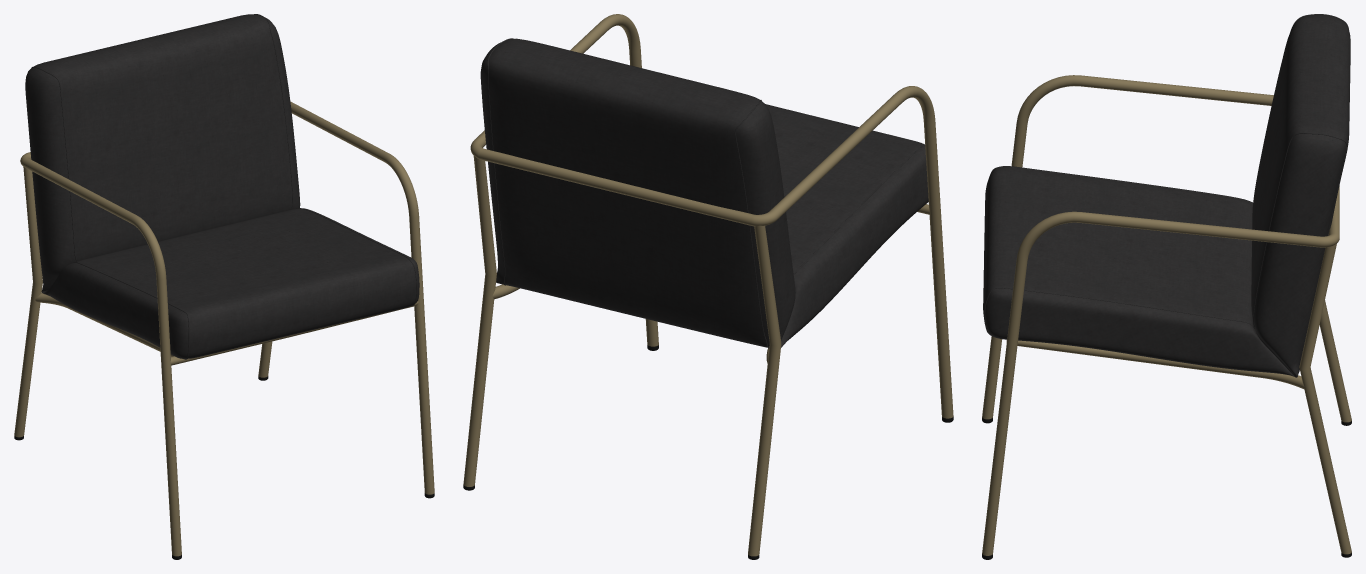
File: blake_armchair.gltf
3 views of the same model, side by side, from view 1: azimuth 30°, elevation 25°; view 2: azimuth 150°, elevation 25°; view 3: azimuth 270°, elevation 25° (orthographic). The views are drawn at different scales.
Visible parts, largest first — view 1: Mesh2; view 2: Mesh2; view 3: Mesh2.
Boxes of the visible parts, x1,y1,x2,y2 form: Mesh2: (14, 14, 434, 559); Mesh2: (463, 14, 953, 559); Mesh2: (982, 14, 1351, 559).
Bounding box in the file's own units: 0.6059 × 0.8349 × 0.6704.
Materials: 1 (1 with a texture image).
